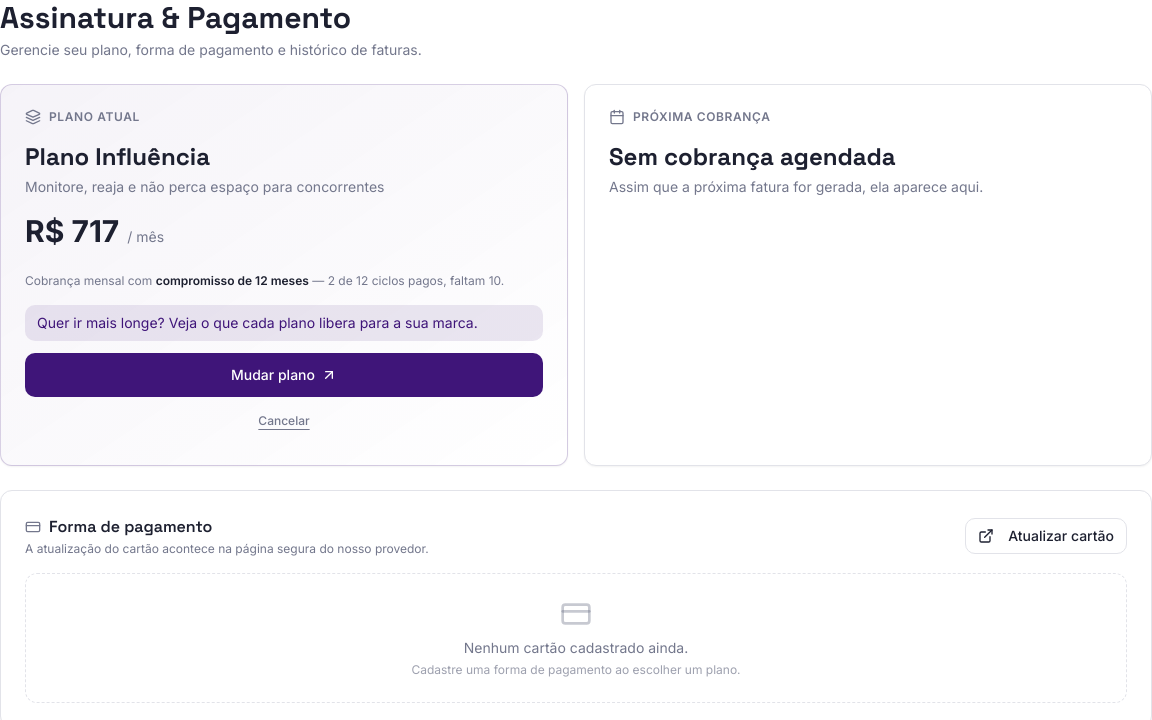
Test: Diálogo de cancelamento — valor vem do servidor › fora do compromisso (mensal): nenhuma frase de cobrança aparece e Confirmar libera
Later steps or results of the test are not shown.
Click the button "Cancelar" at (284, 421), box [242, 401, 326, 441]
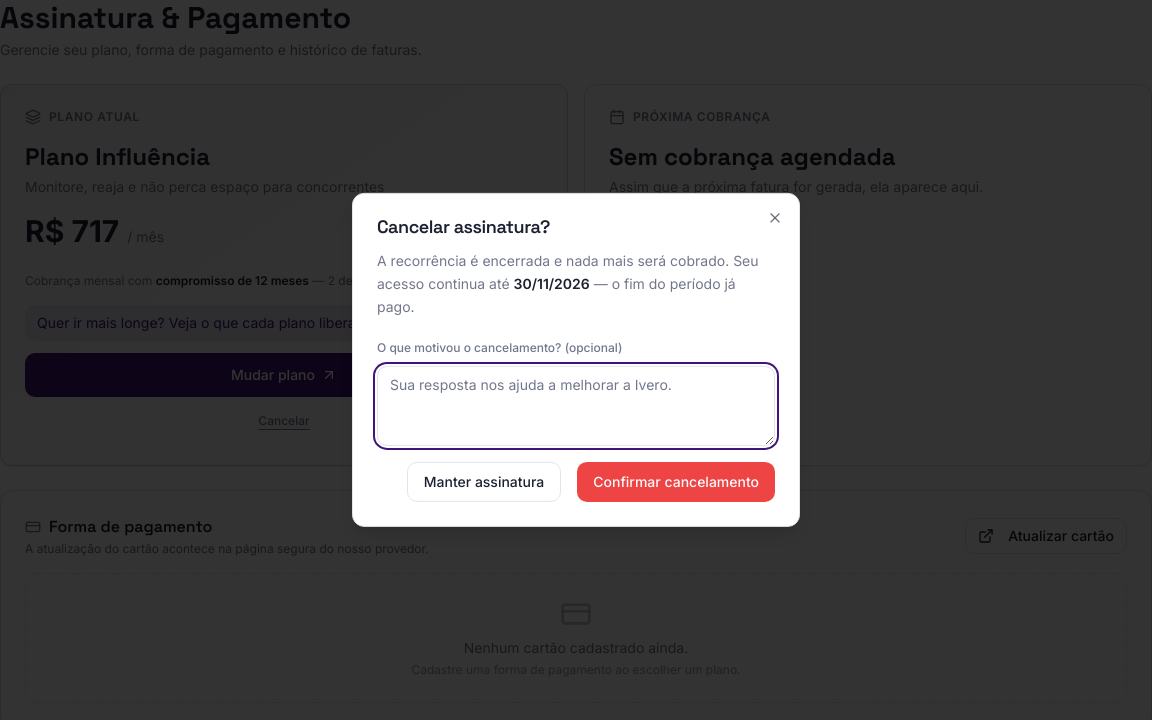
Expected: the button "Confirmar cancelamento" is enabled, [577, 462, 775, 502]
